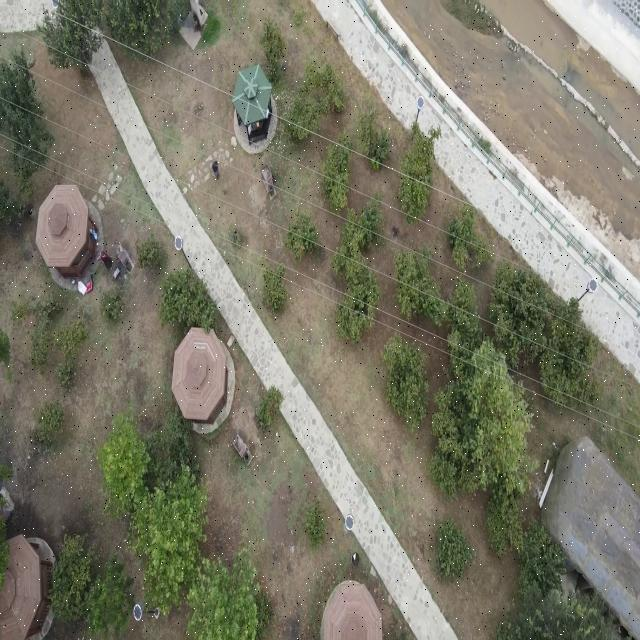people: (97, 250, 113, 270), (212, 160, 220, 180), (256, 120, 260, 129)
